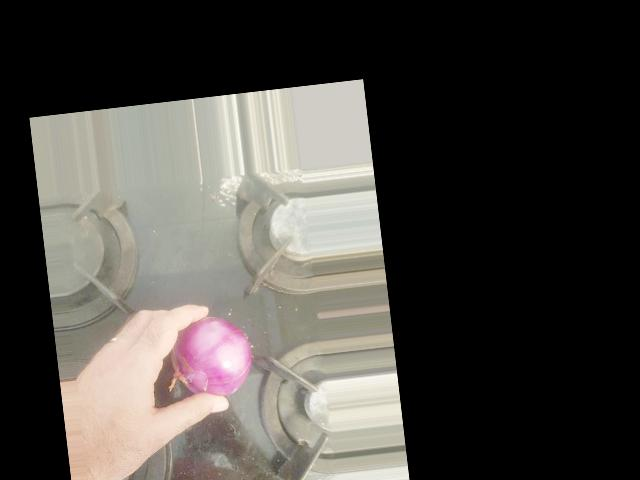onion: (198, 241, 291, 334)
